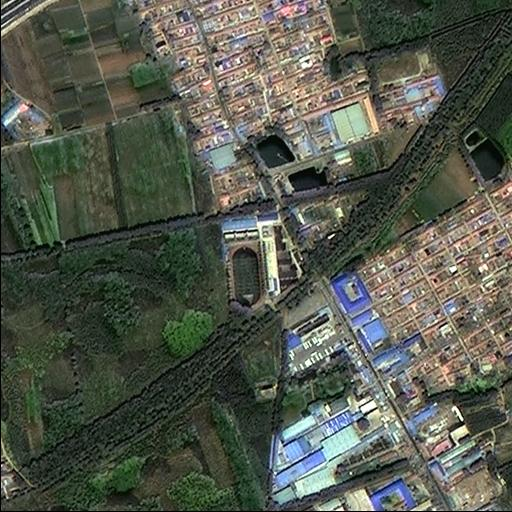school: (207, 209, 304, 324)
